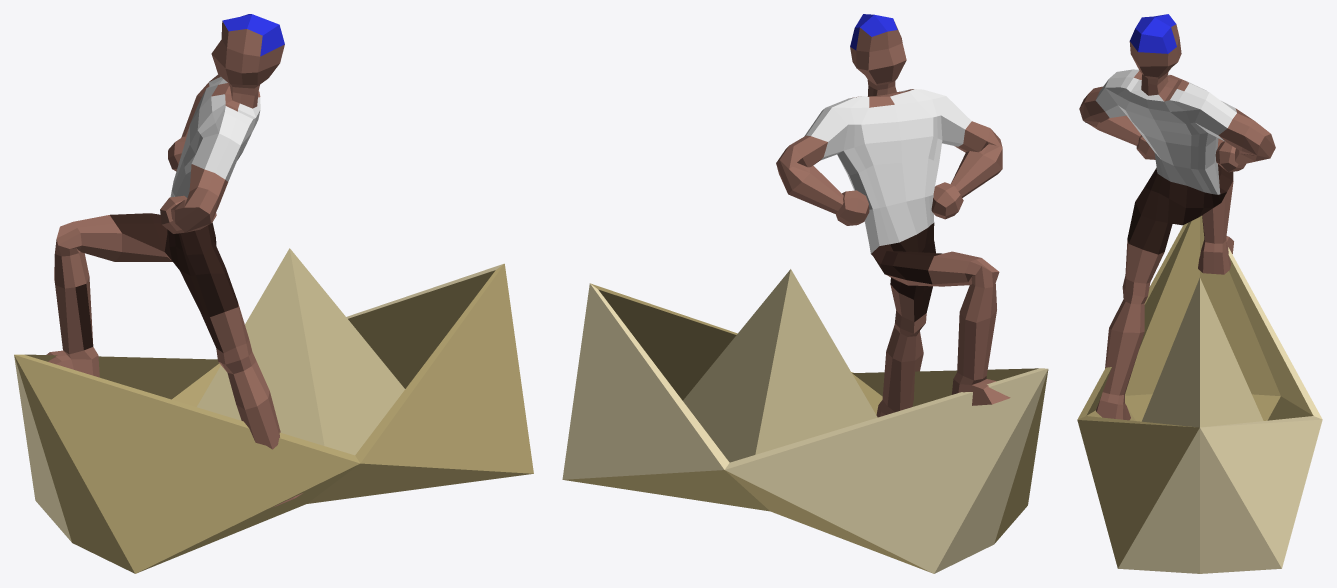
Rendered from barco_papel.fbx.
The picture shows the model from 3 angles, left to right: view 1: azimuth 30°, elevation 25°; view 2: azimuth 150°, elevation 25°; view 3: azimuth 270°, elevation 25°; orthographic projection. The views are drawn at different scales.
Parts seen in each view (by area): view 1: Vehiculo2.002, barco_papel; view 2: Vehiculo2.002, barco_papel; view 3: Vehiculo2.002, barco_papel.
Boxes of the visible parts, x1,y1,x2,y2 form: Vehiculo2.002: (14, 248, 533, 573); barco_papel: (46, 14, 302, 506); Vehiculo2.002: (562, 269, 1048, 573); barco_papel: (776, 14, 1010, 417); Vehiculo2.002: (1077, 215, 1322, 573); barco_papel: (1079, 14, 1275, 420).
Bounding box in the file's own units: 5.11 × 5.1 × 2.55.
